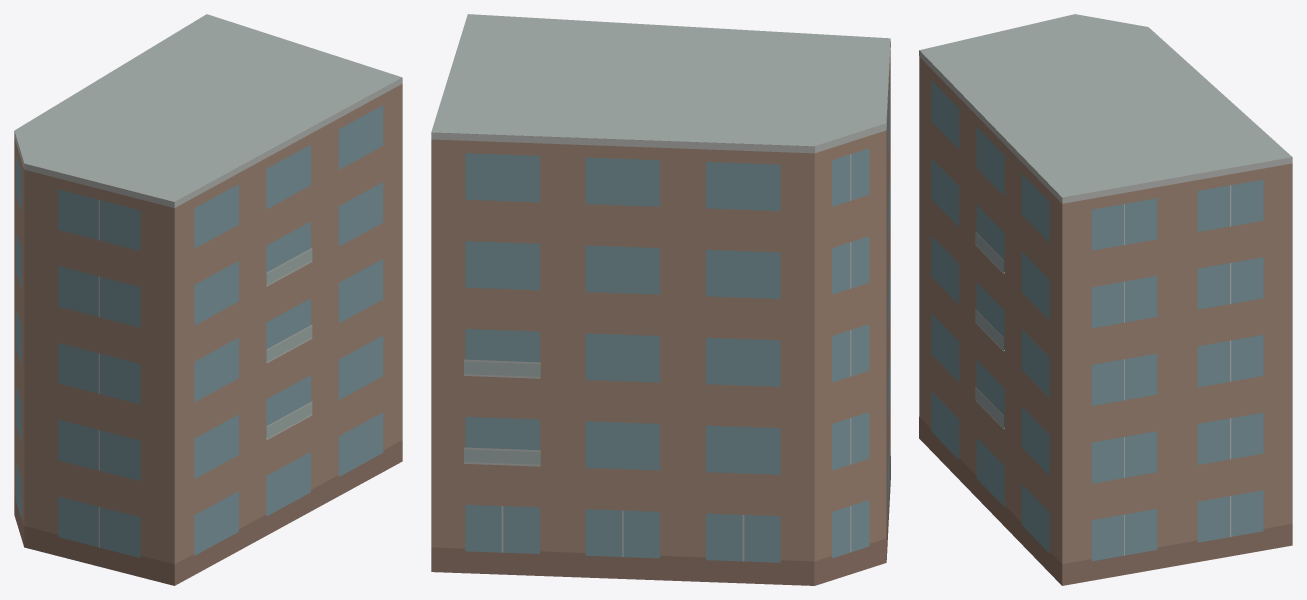
Rendered from residential-de3a8a11-35f0-4d1d-96e9-9f6d82038a57.glb.
The picture shows the model from 3 angles, left to right: view 1: azimuth 30°, elevation 25°; view 2: azimuth 150°, elevation 25°; view 3: azimuth 270°, elevation 25°; orthographic projection. The views are drawn at different scales.
Parts seen in each view (by area): view 1: residential-de3a8a11-35f0-4d1d-96e9-9f6d82038a57.tmp; view 2: residential-de3a8a11-35f0-4d1d-96e9-9f6d82038a57.tmp; view 3: residential-de3a8a11-35f0-4d1d-96e9-9f6d82038a57.tmp.
Part boxes in pixels (left/top/right/bottom): residential-de3a8a11-35f0-4d1d-96e9-9f6d82038a57.tmp: left=14, top=14, right=402, bottom=585; residential-de3a8a11-35f0-4d1d-96e9-9f6d82038a57.tmp: left=431, top=14, right=890, bottom=585; residential-de3a8a11-35f0-4d1d-96e9-9f6d82038a57.tmp: left=919, top=14, right=1292, bottom=585.
Size of the model in its own units: 15.48 by 15.25 by 13.3.
